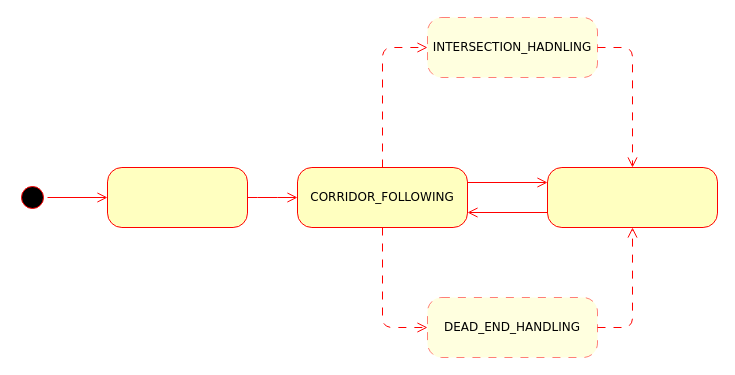
This 735x375 diagram has some shape labels left out. Each missing label, with the centre of its shape:
CALIBRATION: the point at 177,197
TURNING: the point at 632,197
